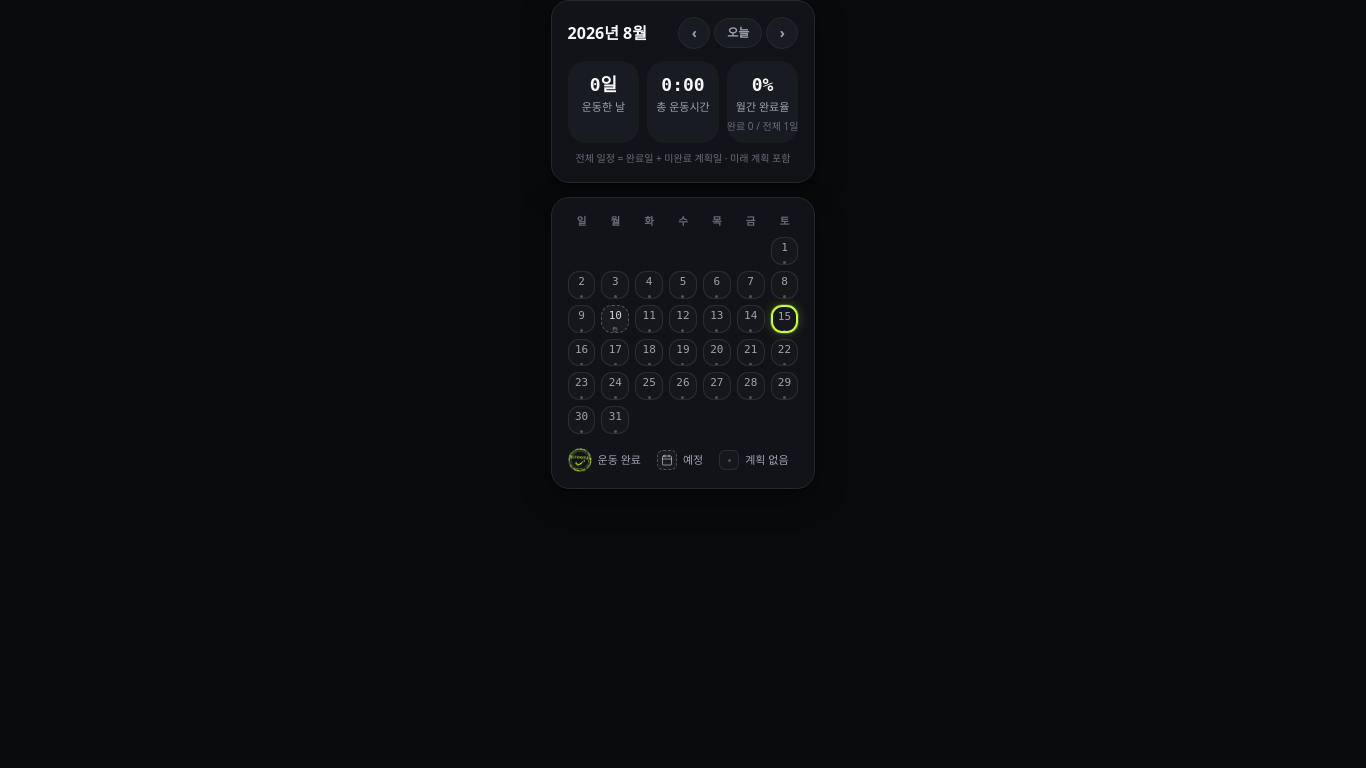
CalendarView — 프로그램 진행 표시 (2026-08-12) › 지난 미완료 회차에 놓친 운동을 표시한다
Expected: the heading "2026년 8월" is shown, 568,21 -> 647,45
Click the button named "8월 10일,".
click(615, 319)  # box 601,305 -> 629,333
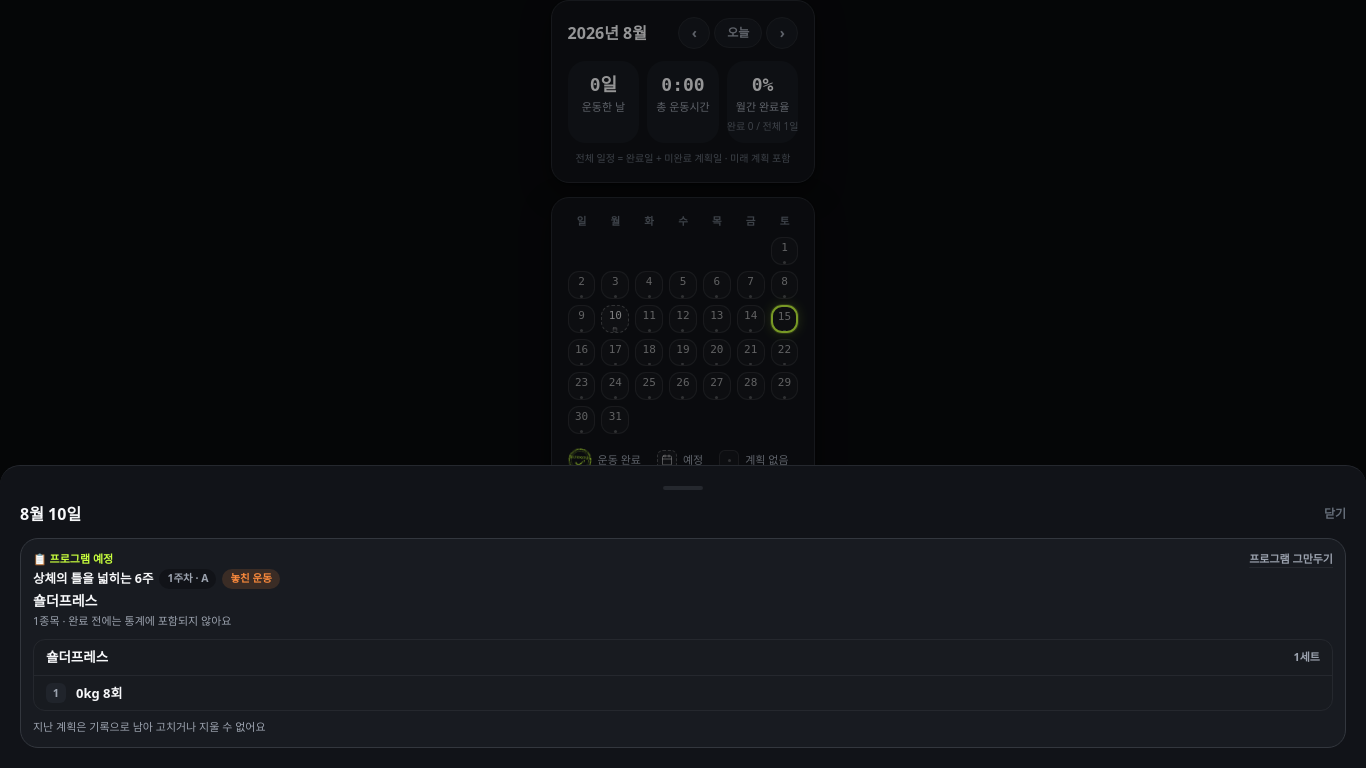
Now the text "놓친 운동" is shown, box 222,569 -> 280,588
